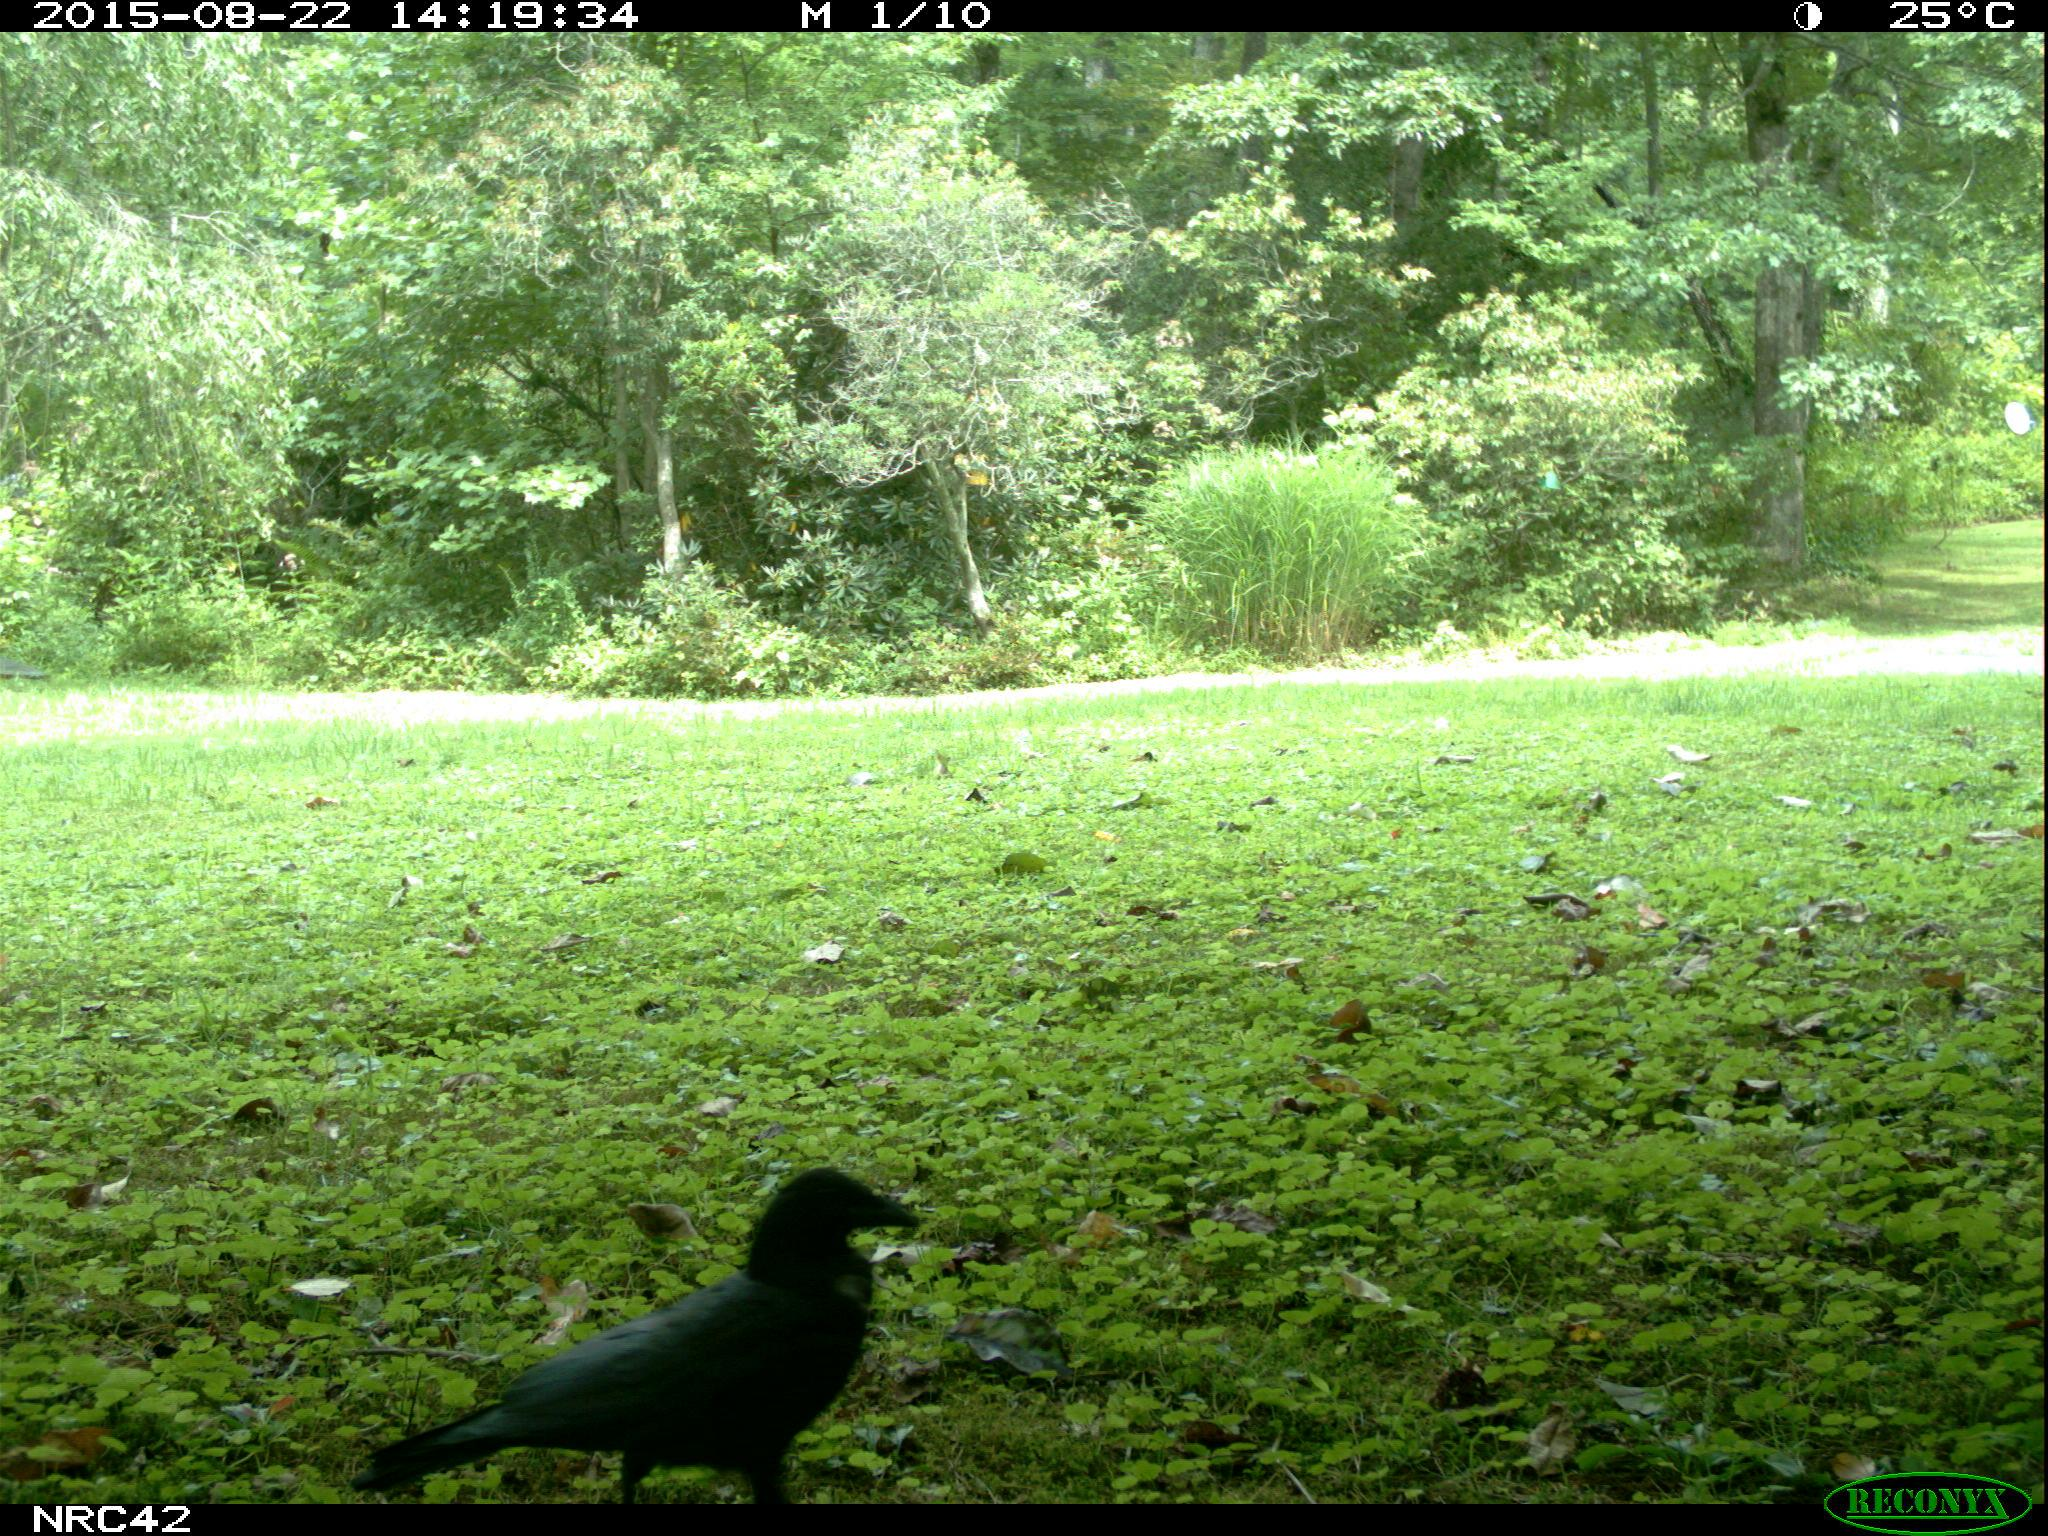Animal: (352, 1167, 918, 1501)
